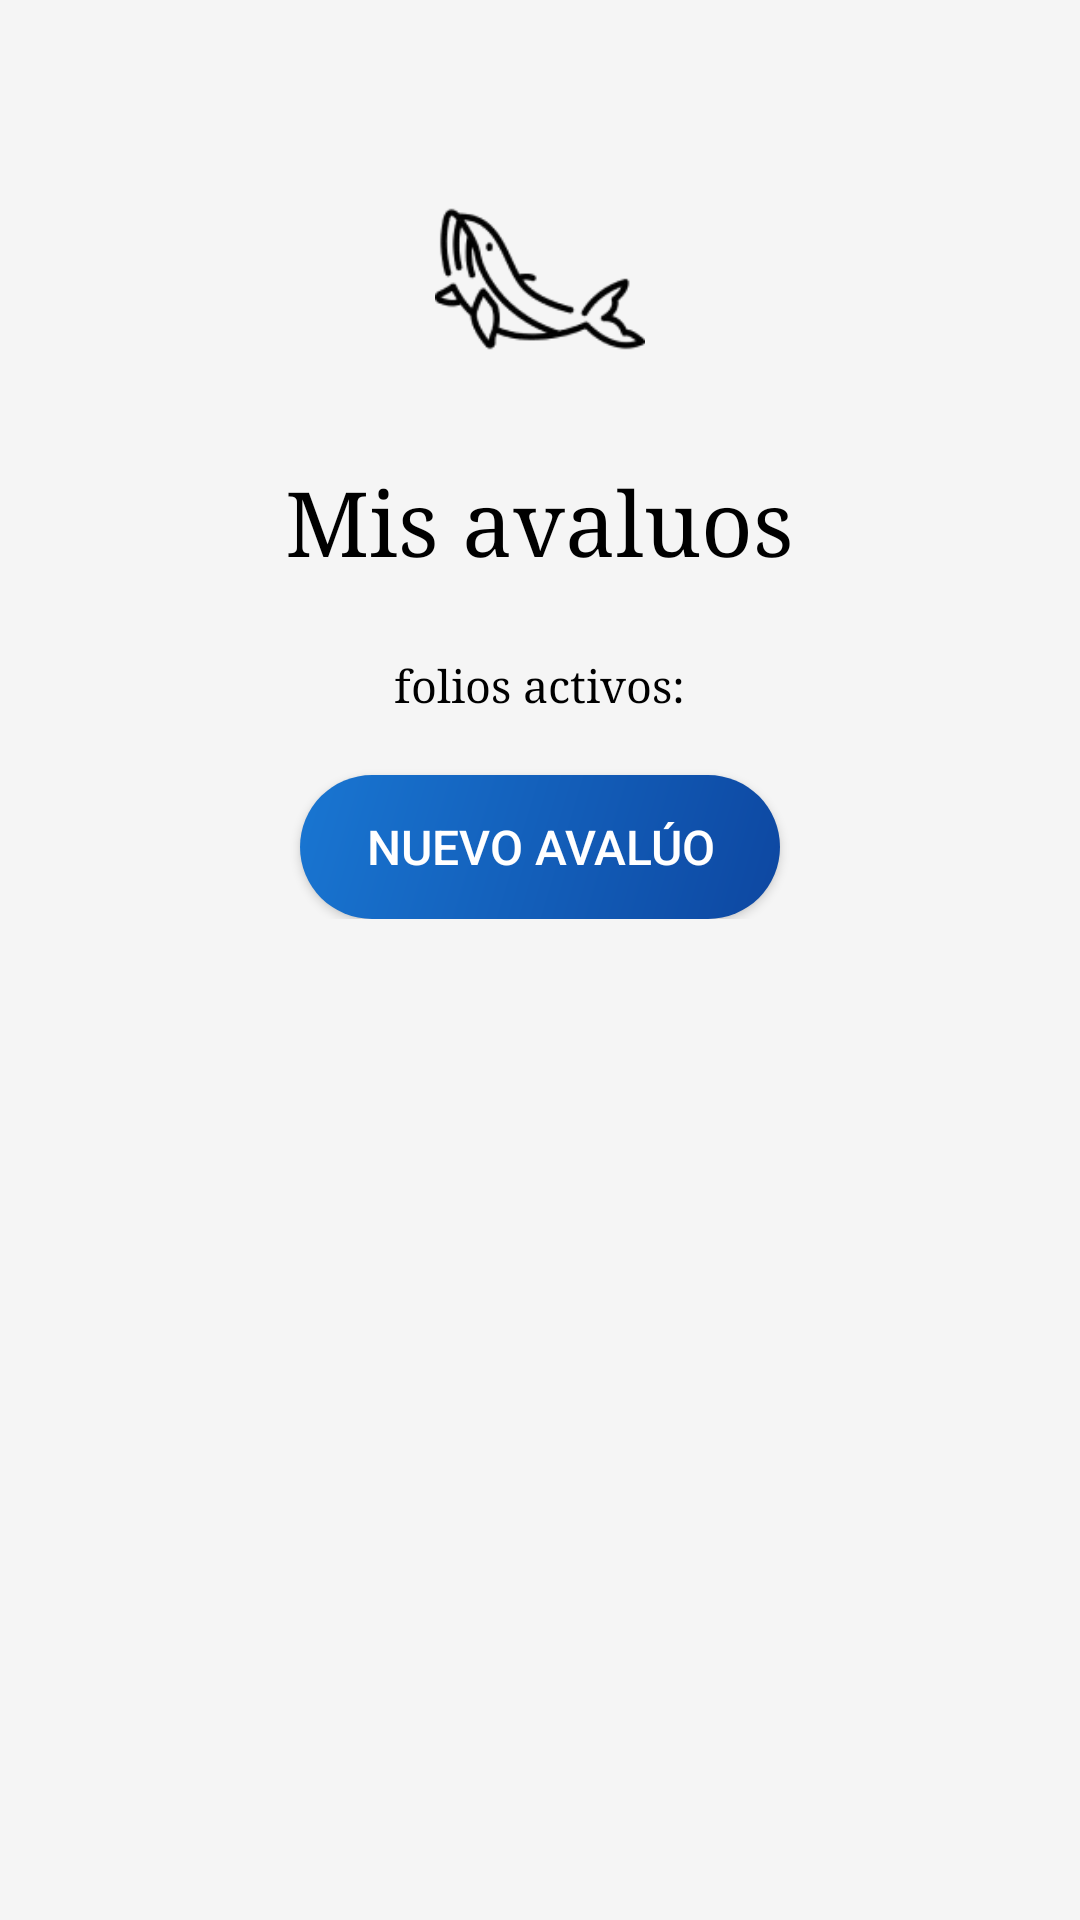

Icons on this 1080x1920 Android screen, each with its box as bbox=(x1, y1, x2, y2):
whale: bbox=(435, 208, 645, 350)
